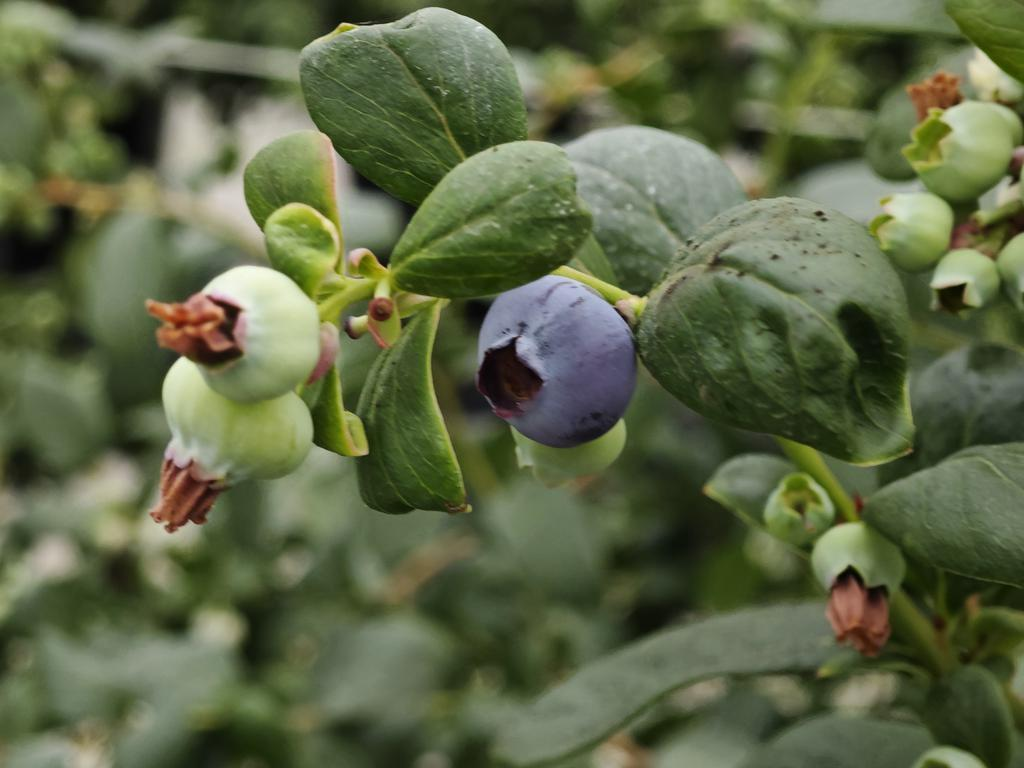RipeBlueBerry: (472, 269, 639, 451)
UnripeBlueBerry: (159, 355, 315, 497), (184, 263, 321, 404)
